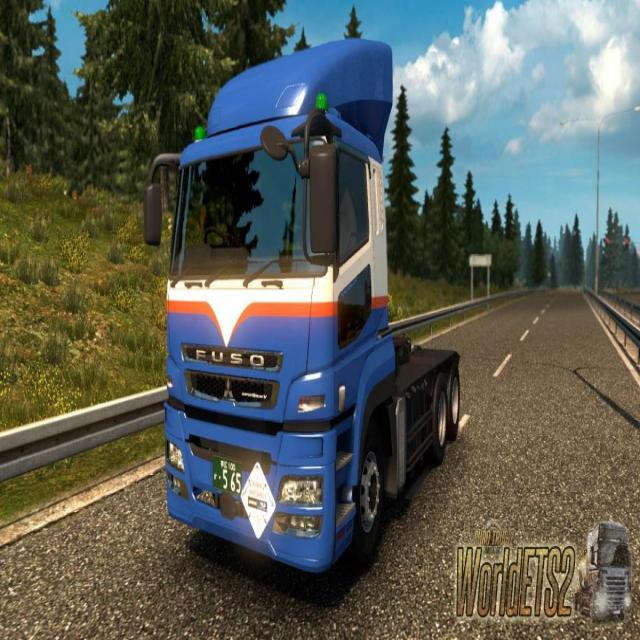Truck: (150, 38, 461, 580)
